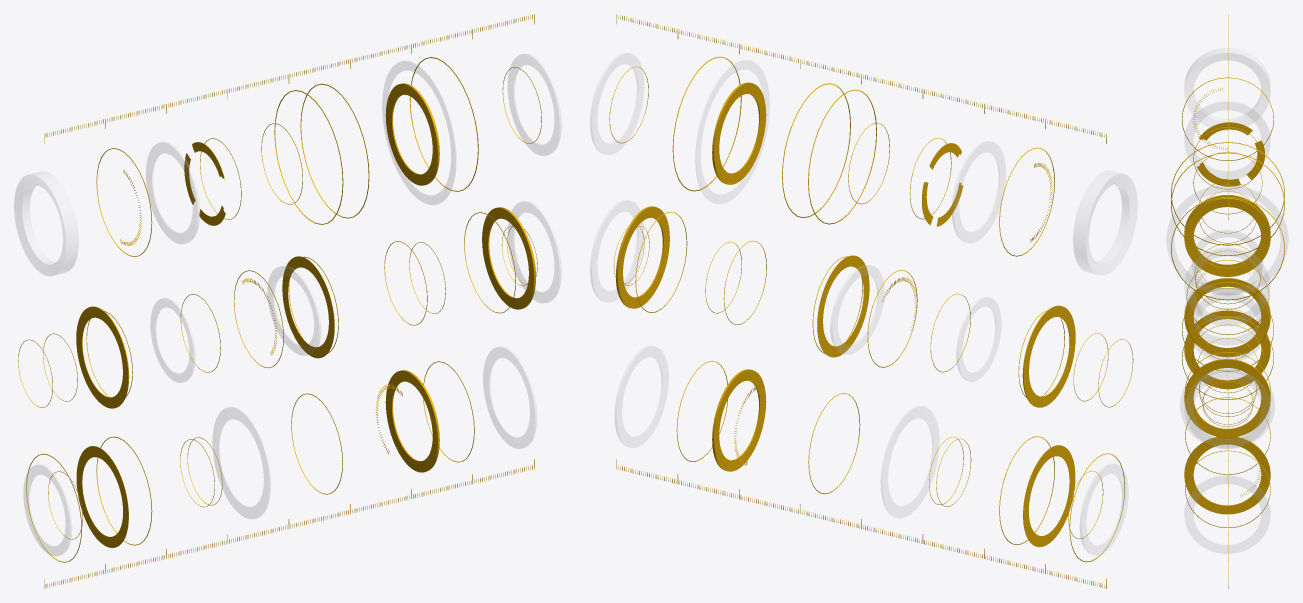
The model's file is machine.gltf.
The picture shows the model from 3 angles, left to right: view 1: azimuth 30°, elevation 25°; view 2: azimuth 150°, elevation 25°; view 3: azimuth 270°, elevation 25°; orthographic projection. The views are drawn at different scales.
Visible parts, largest first — view 1: Sphere.001, Torus.002, Torus.003, Torus.001, Curve.001, Curve.011; view 2: Sphere.001, Torus.002, Torus.003, Torus.001, Curve.001, Curve.011; view 3: Sphere.001, Torus.002, Torus.003, Torus.001, Curve.001.
Part boxes in pixels (box(x1,y1,x2,y2)): Sphere.001: box(18, 57, 541, 562); Torus.002: box(23, 54, 561, 555); Torus.003: box(14, 171, 78, 275); Torus.001: box(146, 142, 199, 243); Curve.001: box(44, 14, 534, 143); Curve.011: box(44, 459, 534, 588); Sphere.001: box(609, 56, 1133, 562); Torus.002: box(590, 53, 1128, 555); Torus.003: box(1073, 171, 1137, 275); Torus.001: box(952, 141, 1005, 242); Curve.001: box(616, 14, 1106, 143); Curve.011: box(616, 459, 1106, 588); Sphere.001: box(1171, 77, 1284, 527); Torus.002: box(1166, 185, 1288, 553); Torus.003: box(1184, 48, 1270, 130); Torus.001: box(1184, 101, 1270, 179); Curve.001: box(1228, 14, 1228, 220).
Size of the model in its own units: 0.4143 by 0.3602 by 0.106.
